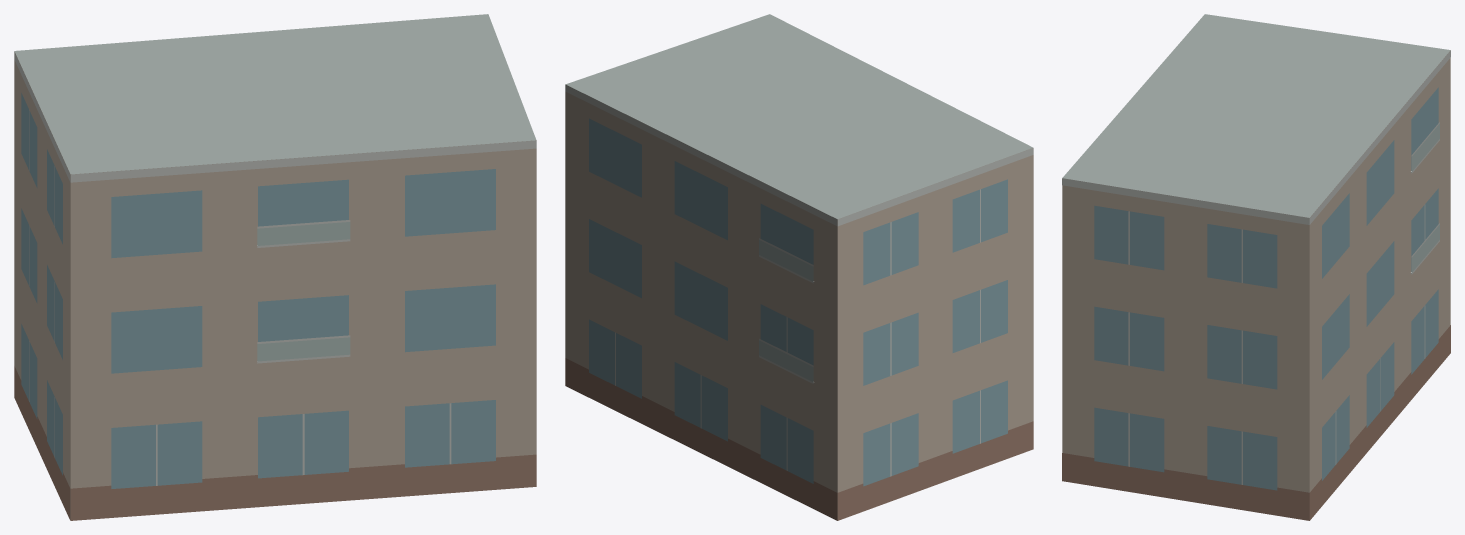
Rendered from survey-upis-32523254.glb.
3 renders of one model, left to right at view 1: azimuth 30°, elevation 25°; view 2: azimuth 150°, elevation 25°; view 3: azimuth 270°, elevation 25°, orthographic. The views are drawn at different scales.
Parts seen in each view (by area): view 1: survey-upis-32523254.tmp; view 2: survey-upis-32523254.tmp; view 3: survey-upis-32523254.tmp.
Part boxes in pixels (box(x1,y1,x2,y2)): survey-upis-32523254.tmp: box(14, 14, 536, 520); survey-upis-32523254.tmp: box(565, 14, 1033, 520); survey-upis-32523254.tmp: box(1062, 14, 1450, 520).
Size of the model in its own units: 14.88 by 10.3 by 11.99.
